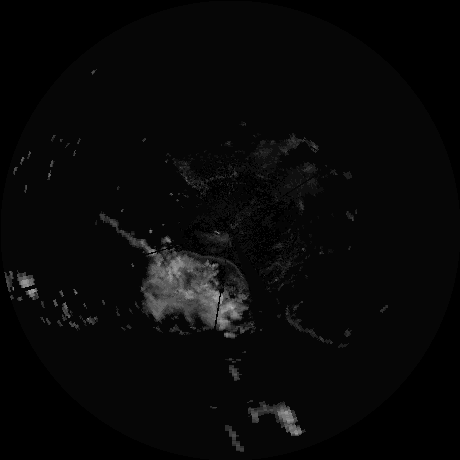frontgust: (182, 251, 249, 290)
